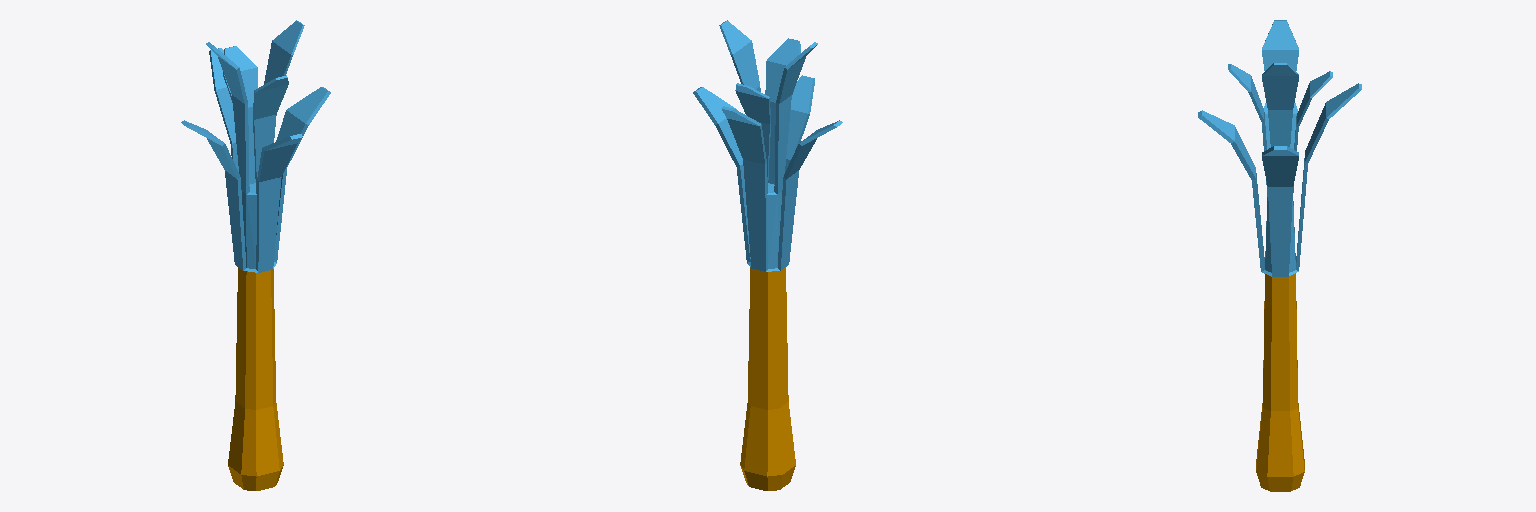
URDF robot description (green_onion):
<?xml version="1.0"?>
<robot name="green_onion">
  <link name="root">
    <inertial>
        <origin rpy="0 0 0" xyz="0 0 0"/>
        <mass value="0.01"/>
        <inertia ixx="4.4e-5" ixy="0" ixz="0" iyy="0" iyz="0" izz="4.4e-5"/>
    </inertial>
    <visual>
      <geometry>
        <mesh filename="GreenOnionRoot.obj"/>
      </geometry>
    </visual>
    <collision>
      <geometry>
        <mesh filename="GreenOnionRoot.obj"/>
      </geometry>
      <surface>
           <bounce restitution_coefficient = "0.1"/>
      </surface>
    </collision>
  </link>
  <link name="leaf">
    <inertial>
        <origin rpy="0 0 0" xyz="0 0 0"/>
        <mass value="0.001"/>
        <inertia ixx="1.9e-5" ixy="0" ixz="0" iyy="6.8e-6" iyz="0" izz="1.2e-5"/>
    </inertial>
    <visual>
      <geometry>
        <mesh filename="GreenOnionLeaf.obj"/>
      </geometry>
    </visual>
    <collision>
      <geometry>
        <mesh filename="GreenOnionLeafCollider.obj"/>
      </geometry>
      <surface>
           <bounce restitution_coefficient = "0.1"/>
      </surface>
    </collision>
  </link>
  <joint name="root_to_leaf" type="fixed">
    <parent link="root"/>
    <child link="leaf"/>
    <origin rpy="0 0 0" xyz="0 0 0.207244"/>
  </joint>
</robot>

--- What the picture shows (computed from the rendered views, not written in the file) ---
3 views of the same robot in one strip: view 1: azimuth 30°, elevation 25°; view 2: azimuth 150°, elevation 25°; view 3: azimuth 270°, elevation 25° (orthographic).
Robot: green_onion — 2 links, 1 joints (1 fixed); root link root; default pose: every joint at zero.
Visible links, largest first — view 1: leaf, root; view 2: leaf, root; view 3: leaf, root.
Boxes of the visible links, <box> form: leaf: <box>181,20,330,272</box>; root: <box>228,267,283,490</box>; leaf: <box>693,20,842,271</box>; root: <box>740,267,795,490</box>; leaf: <box>1198,20,1361,276</box>; root: <box>1256,273,1304,491</box>.
Size in the robot's own frame: 0.1432 by 0.1429 by 0.4258 metres.
Meshes: 2 distinct files referenced, 2 mesh visuals loaded (2 OBJ).
